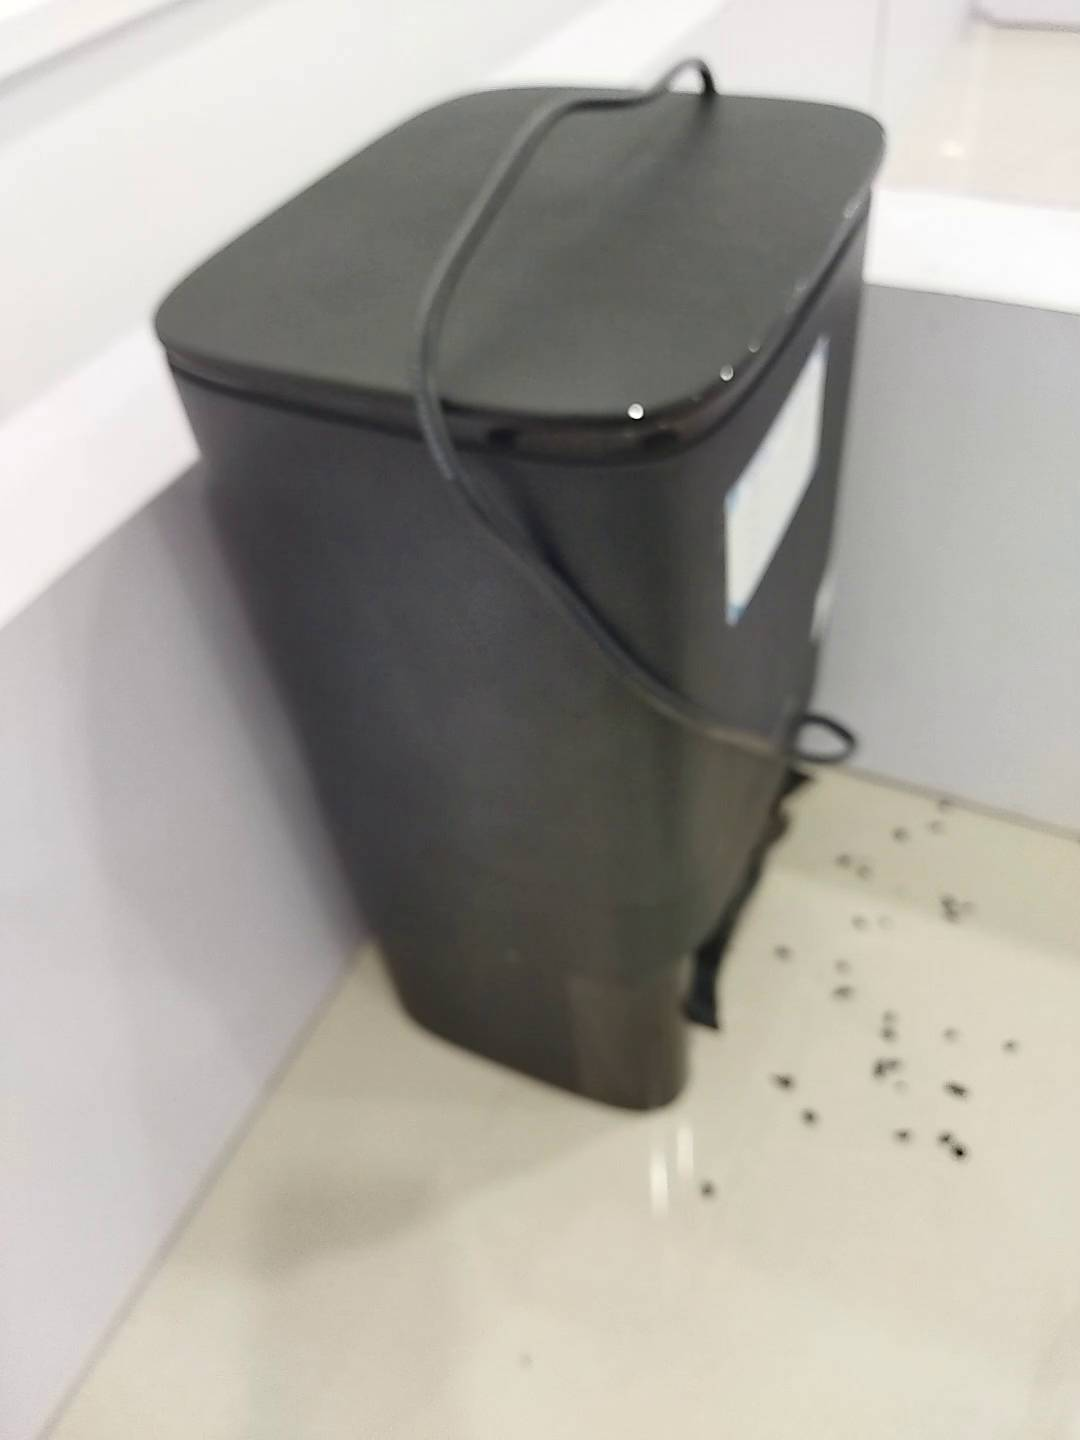dust collecting barrel: (155, 86, 889, 1113)
